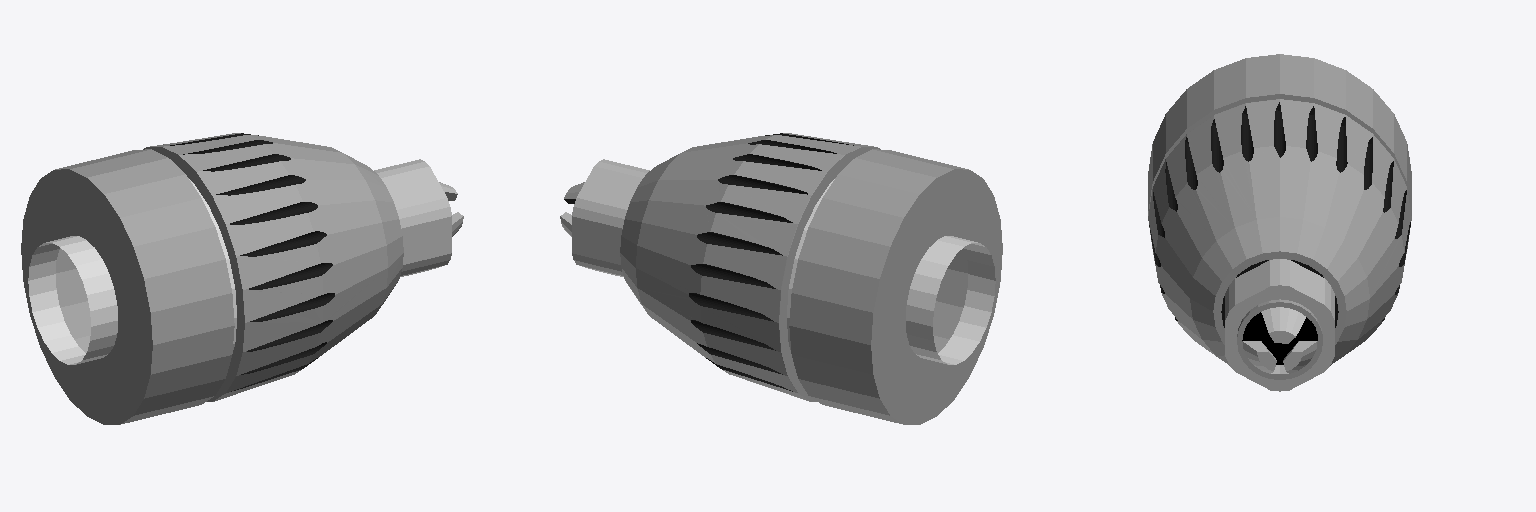
Rendered from chuck.obj.
3 views of the same model, side by side, from view 1: azimuth 30°, elevation 25°; view 2: azimuth 150°, elevation 25°; view 3: azimuth 270°, elevation 25° (orthographic).
Visible parts, largest first — view 1: chuck_Mesh7_Group10_Group1_Komponente_10_1_Model; view 2: chuck_Mesh7_Group10_Group1_Komponente_10_1_Model; view 3: chuck_Mesh7_Group10_Group1_Komponente_10_1_Model.
Boxes of the visible parts, x1,y1,x2,y2 form: chuck_Mesh7_Group10_Group1_Komponente_10_1_Model: [21, 133, 463, 424]; chuck_Mesh7_Group10_Group1_Komponente_10_1_Model: [560, 133, 1002, 424]; chuck_Mesh7_Group10_Group1_Komponente_10_1_Model: [1148, 54, 1411, 391].
Size of the model in its own units: 0.0504 by 0.0293 by 0.0293.